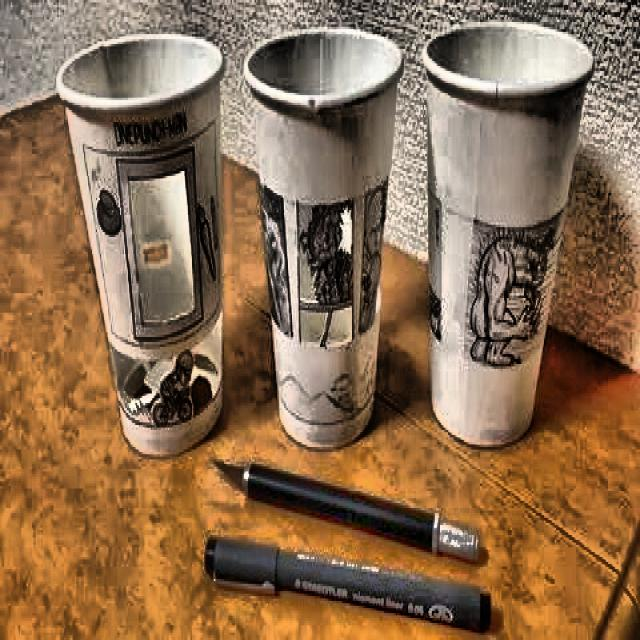Cup: (420, 2, 596, 468), (59, 31, 240, 460), (244, 18, 395, 456)
